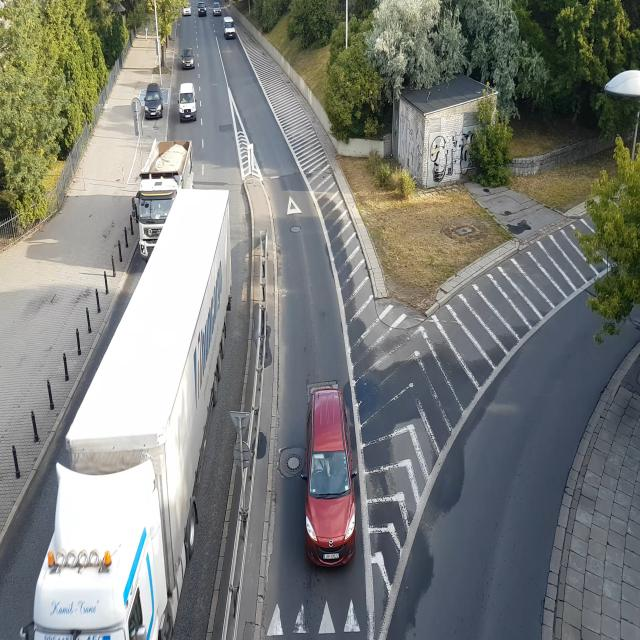car: (304, 382, 358, 571), (180, 82, 198, 122), (143, 89, 165, 119), (181, 43, 196, 75), (182, 0, 195, 19), (225, 25, 237, 39), (213, 0, 224, 14), (198, 2, 208, 17)
truck: (32, 295, 214, 640), (136, 137, 193, 243)
